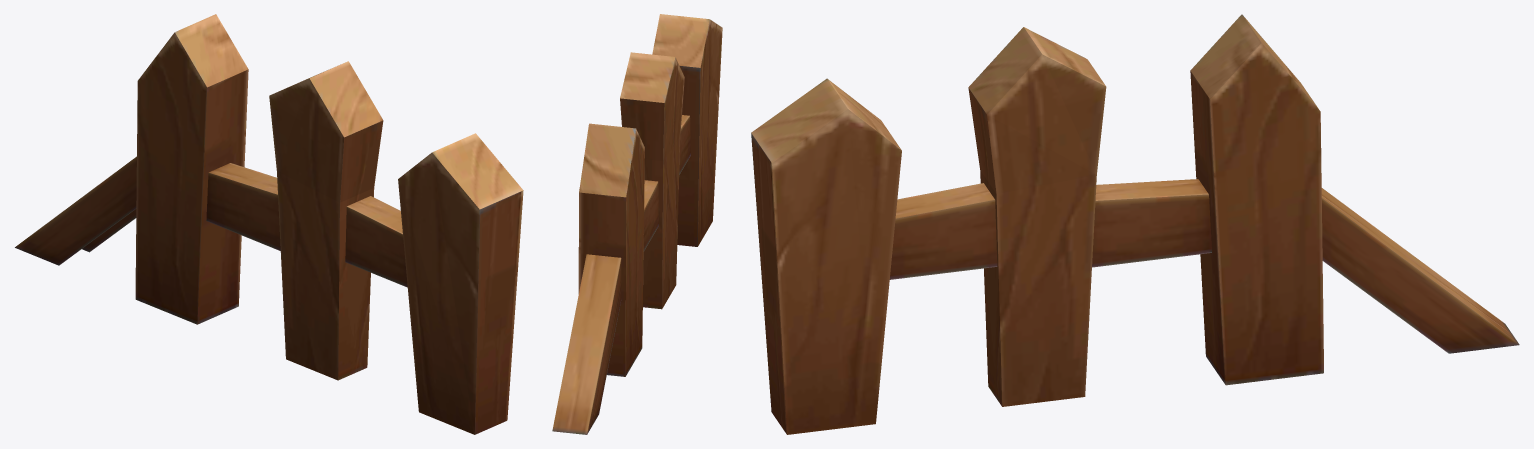
Rendered from caodi_liba_02.fbx.
3 renders of one model, left to right at view 1: azimuth 30°, elevation 25°; view 2: azimuth 150°, elevation 25°; view 3: azimuth 270°, elevation 25°, orthographic. The views are drawn at different scales.
Visible parts, largest first — view 1: caodi_liba_02; view 2: caodi_liba_02; view 3: caodi_liba_02.
Part boxes in pixels (x1,y1,x2,y2): caodi_liba_02: [15, 14, 523, 434]; caodi_liba_02: [552, 14, 722, 434]; caodi_liba_02: [751, 14, 1519, 434].
Bounding box in the file's own units: 1.6 × 2.23 × 4.41.
